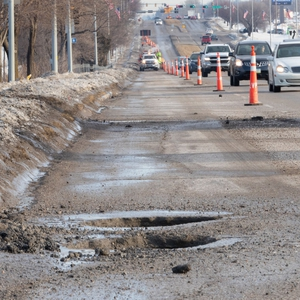pothole: (12, 233, 228, 257), (82, 213, 222, 227)
